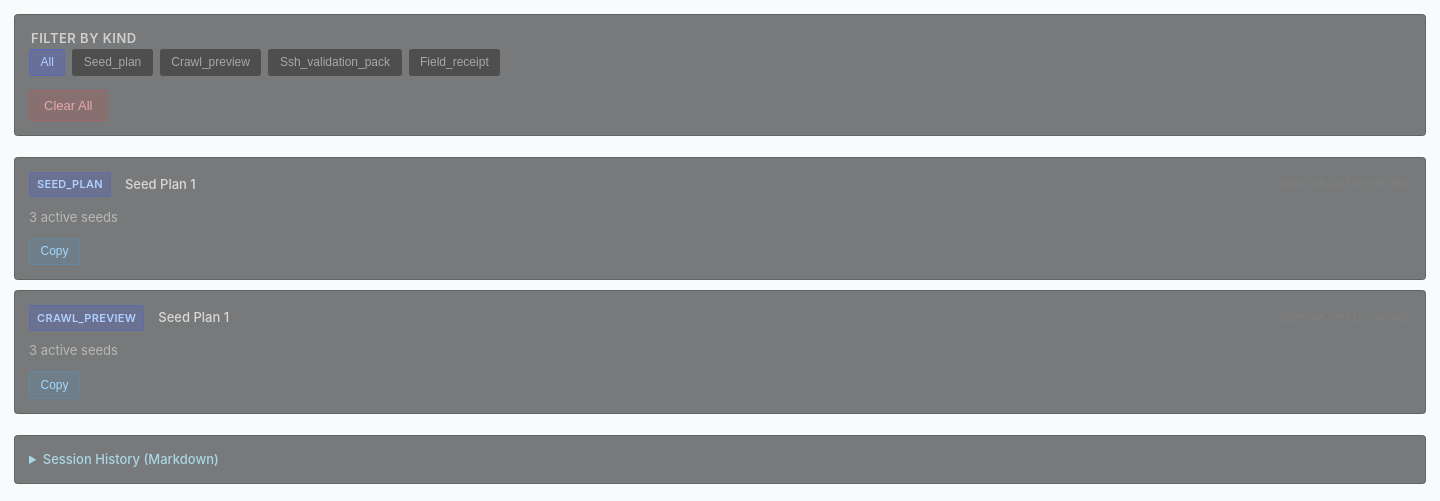
FieldReceiptsPanel › filters entries by kind
Expected: the element with test id "frp-entry-0" is shown, [14,157,1426,280]
Expected: the element with test id "frp-entry-1" is shown, [14,290,1426,414]
# Filter by seed_plan
Step 1. Click the button with test id "frp-filter-seed_plan" → (112, 62), box [72,48,153,76]
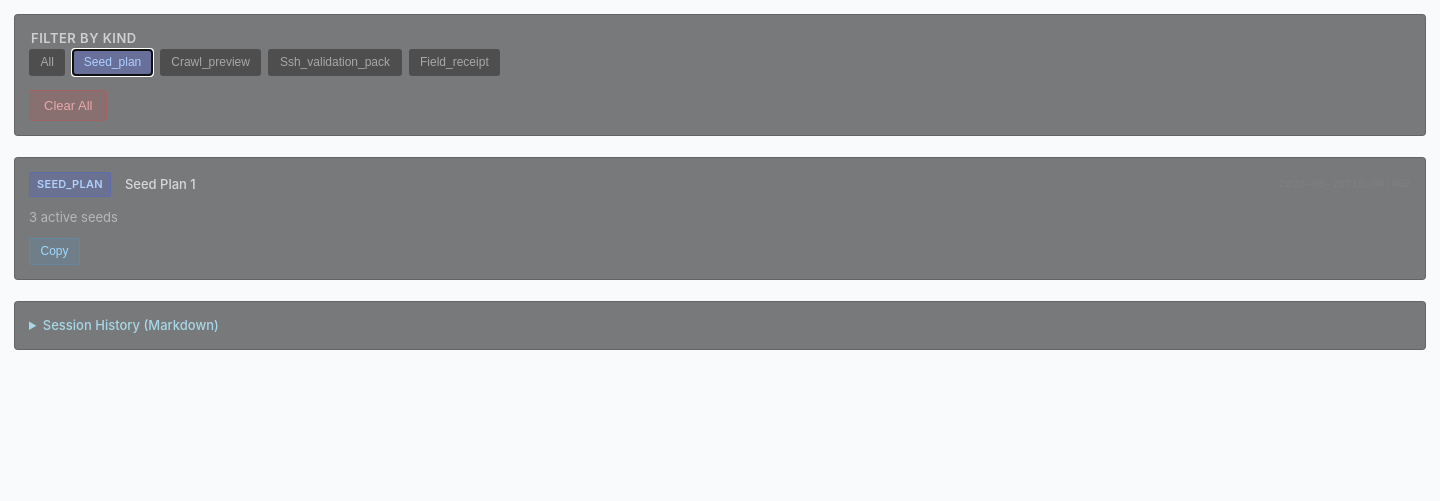
Expected: the element with test id "frp-entry-0" is shown, [14,157,1426,280]
Now the element with test id "frp-entry-1" is gone
